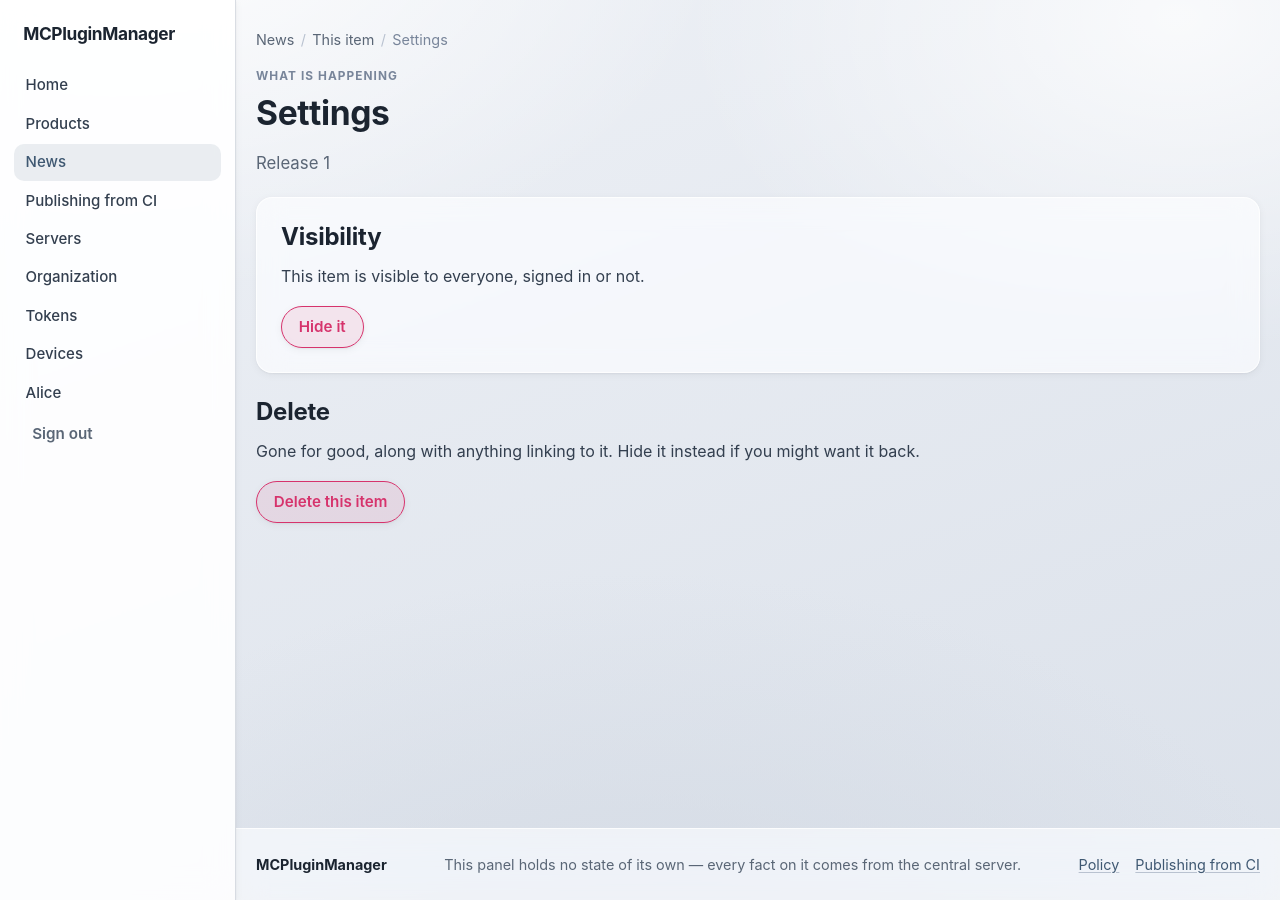
it: the settings page › deletes only after the dialog is confirmed
Click the button "Delete this item": (331, 502) x1=256 y1=481 x2=405 y2=523
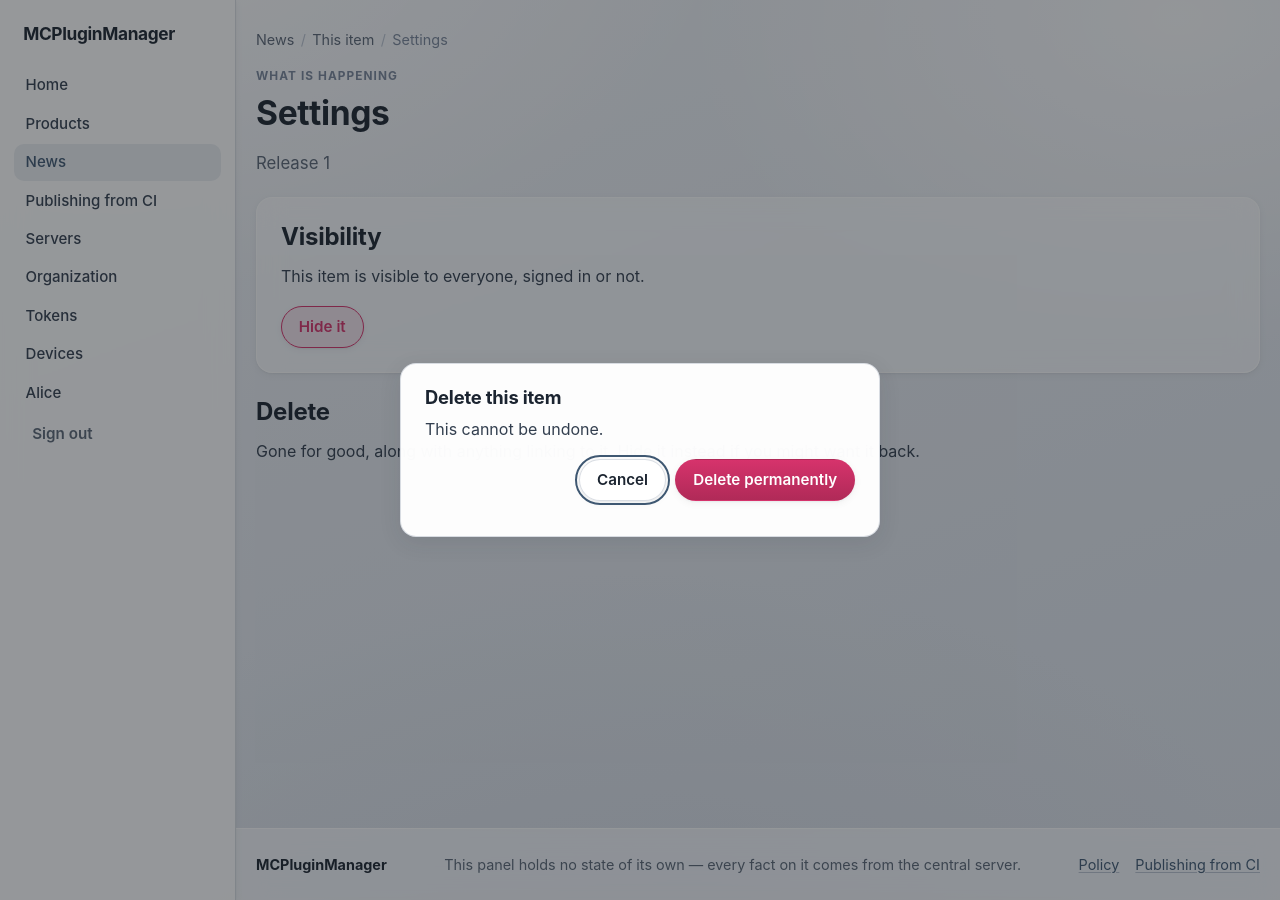
Click the button "Delete permanently": (765, 480) x1=676 y1=459 x2=855 y2=501
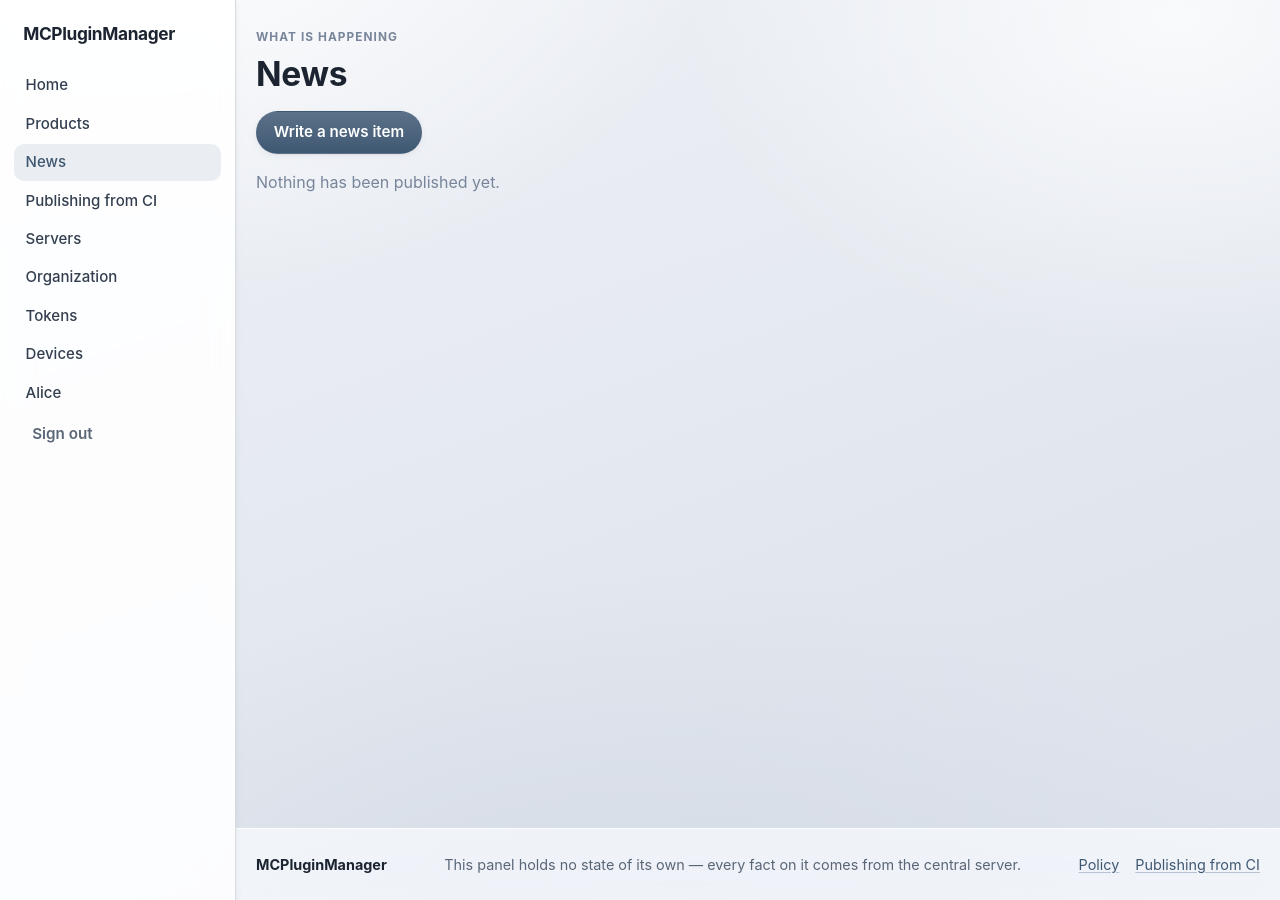
expect the heading "News" is shown: met, box x1=256 y1=52 x2=347 y2=94
